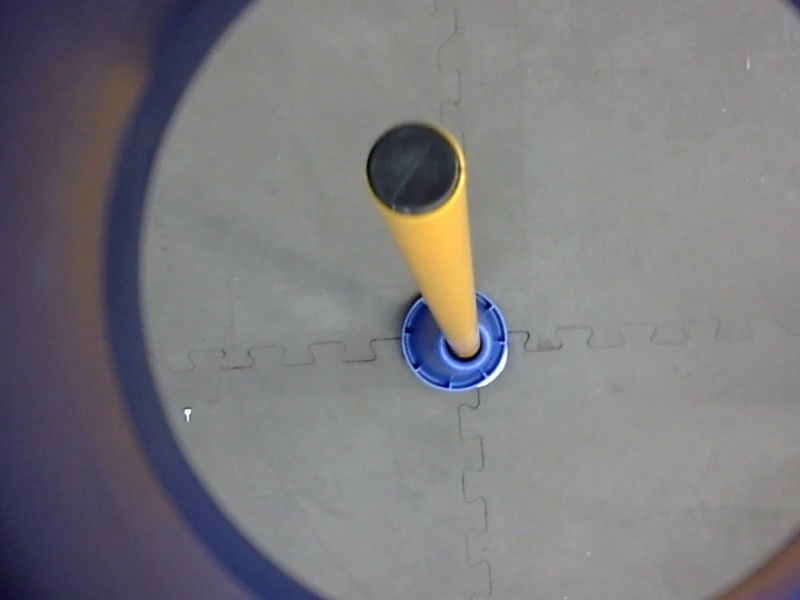tip: (360, 114, 470, 221)
